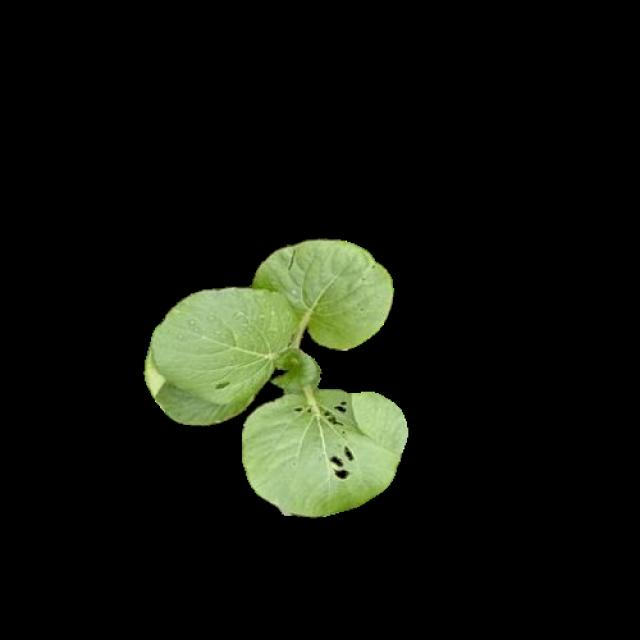not-mature: (145, 239, 411, 520)
unhealthy: (244, 386, 406, 518)
